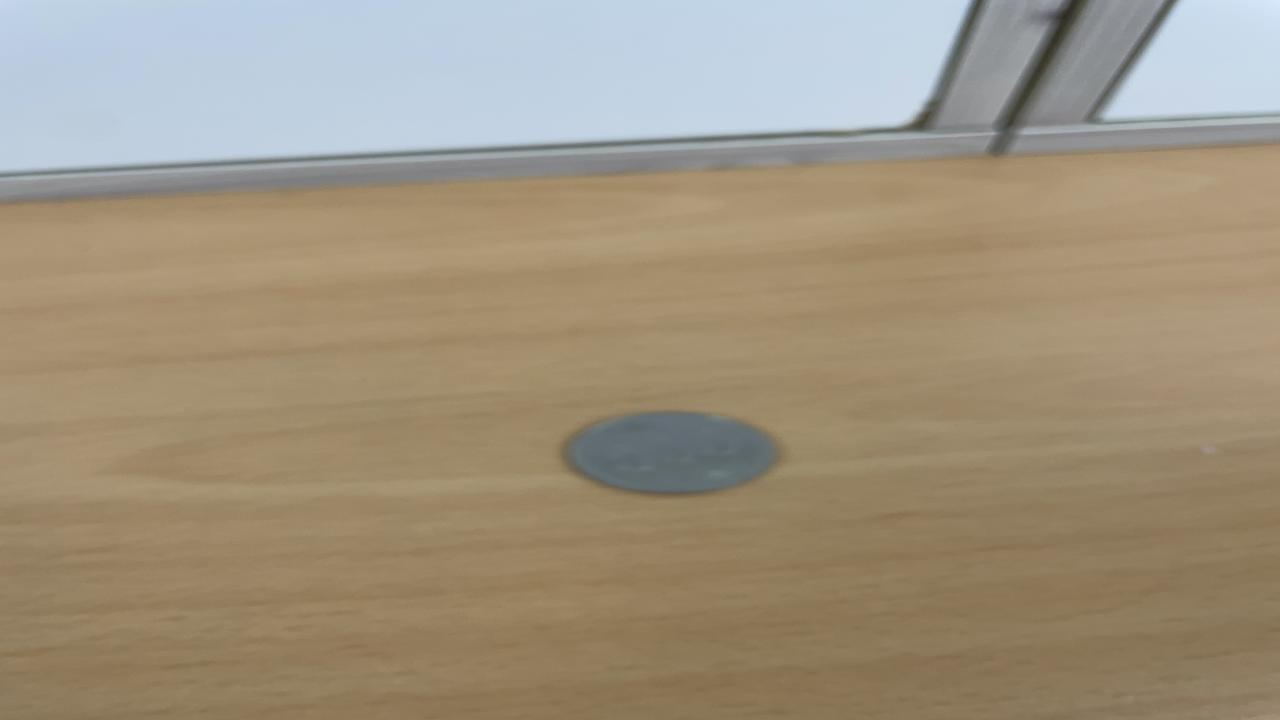coin: (552, 407, 788, 498)
